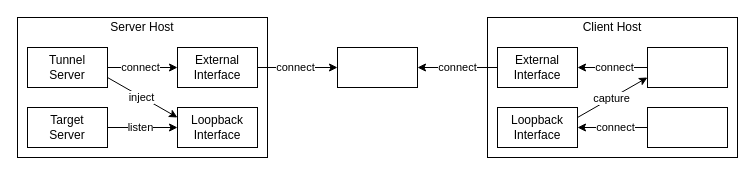
This 755x175 diagram has some shape labels left out. The centre of each missing label's shape, as x and y in pixels:
App: the point at 687,127
Pub/Sub Broker: the point at 377,67
Tunnel Client: the point at 687,67
